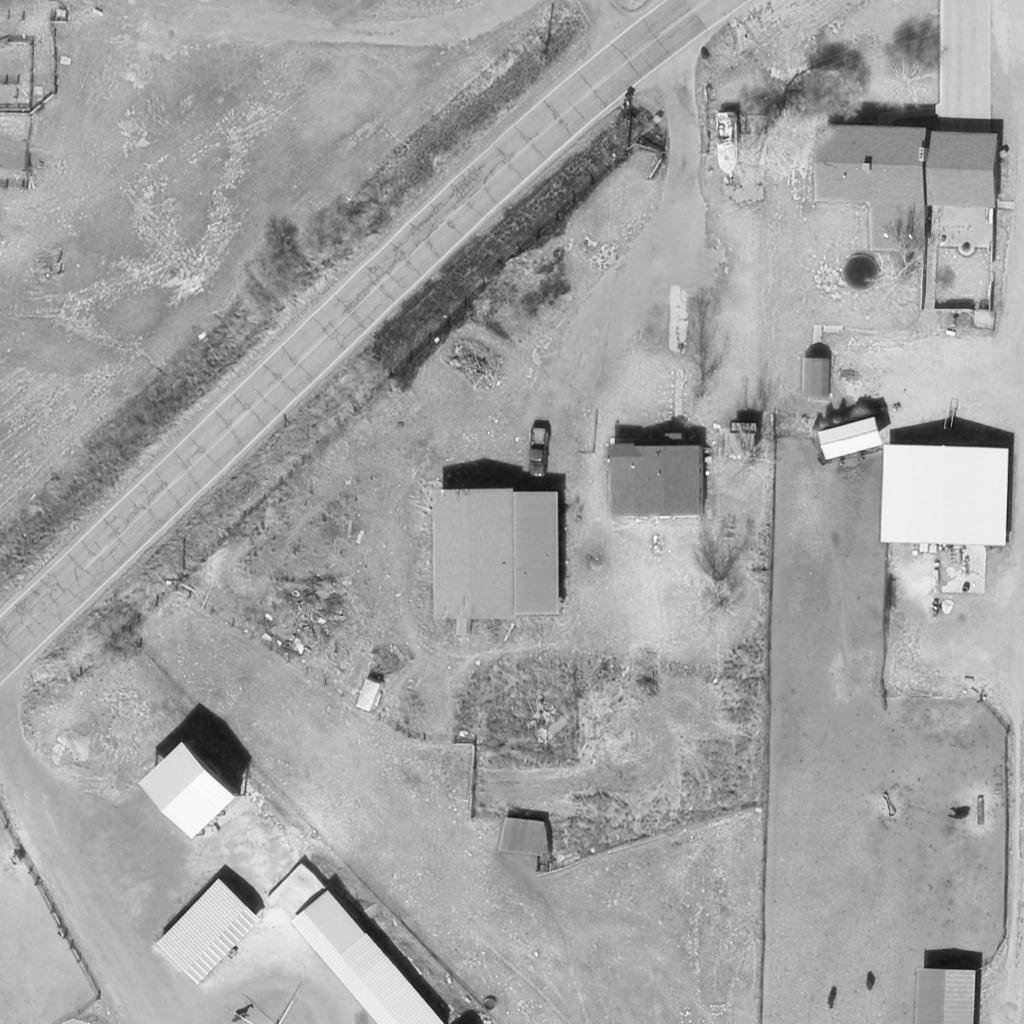vehicle: (715, 112, 741, 178), (528, 427, 550, 481)
